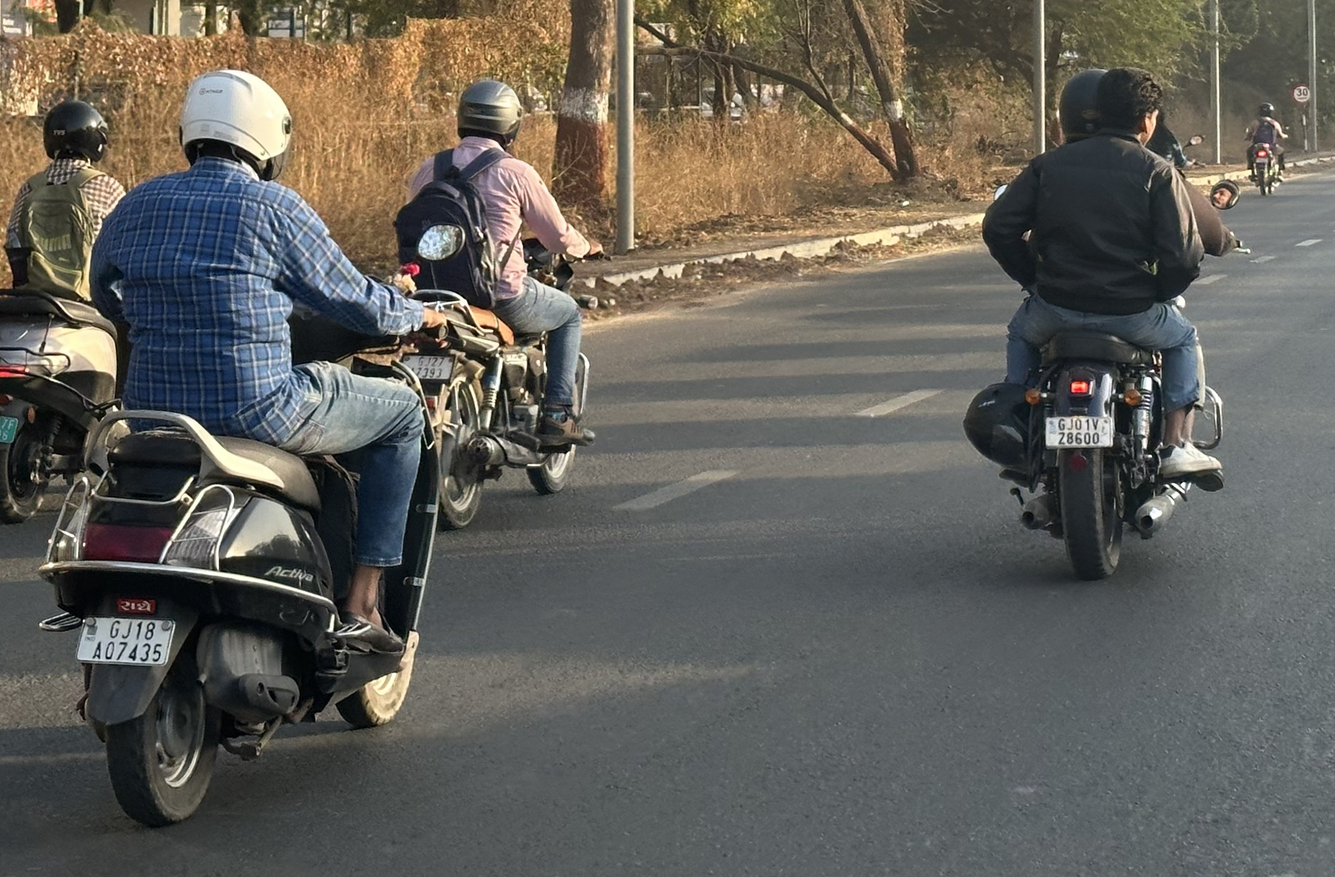BikeWithRider: (87, 62, 459, 831), (952, 39, 1264, 602), (357, 60, 640, 529), (0, 70, 189, 526)
Helmet: (178, 62, 313, 199), (24, 83, 126, 170), (446, 73, 535, 170), (1057, 65, 1134, 141)
NoHelmet: (1102, 70, 1181, 154)
